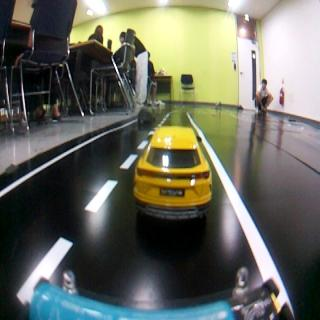car: (133, 124, 214, 224)
